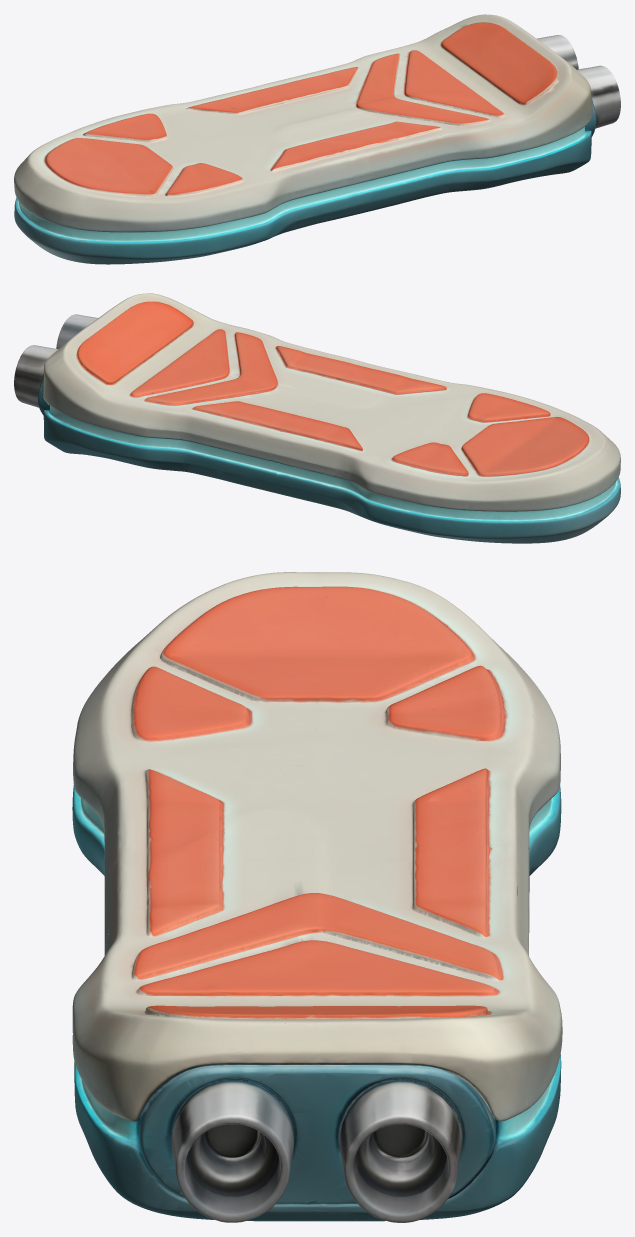
File: prop_hoverboard.glb
3 renders of one model, top to bottom at view 1: azimuth 30°, elevation 25°; view 2: azimuth 150°, elevation 25°; view 3: azimuth 270°, elevation 25°, orthographic. The views are drawn at different scales.
Parts seen in each view (by area): view 1: tripo_node_dff25d42-4864-479b-b006-75544e88fb27; view 2: tripo_node_dff25d42-4864-479b-b006-75544e88fb27; view 3: tripo_node_dff25d42-4864-479b-b006-75544e88fb27.
Part boxes in pixels (<box>): tripo_node_dff25d42-4864-479b-b006-75544e88fb27: <box>14,14,620,264</box>; tripo_node_dff25d42-4864-479b-b006-75544e88fb27: <box>14,293,620,543</box>; tripo_node_dff25d42-4864-479b-b006-75544e88fb27: <box>72,572,562,1222</box>.
Bounding box in the file's own units: 0.9792 × 0.1673 × 0.372.
Materials: 1 (1 with a texture image).
